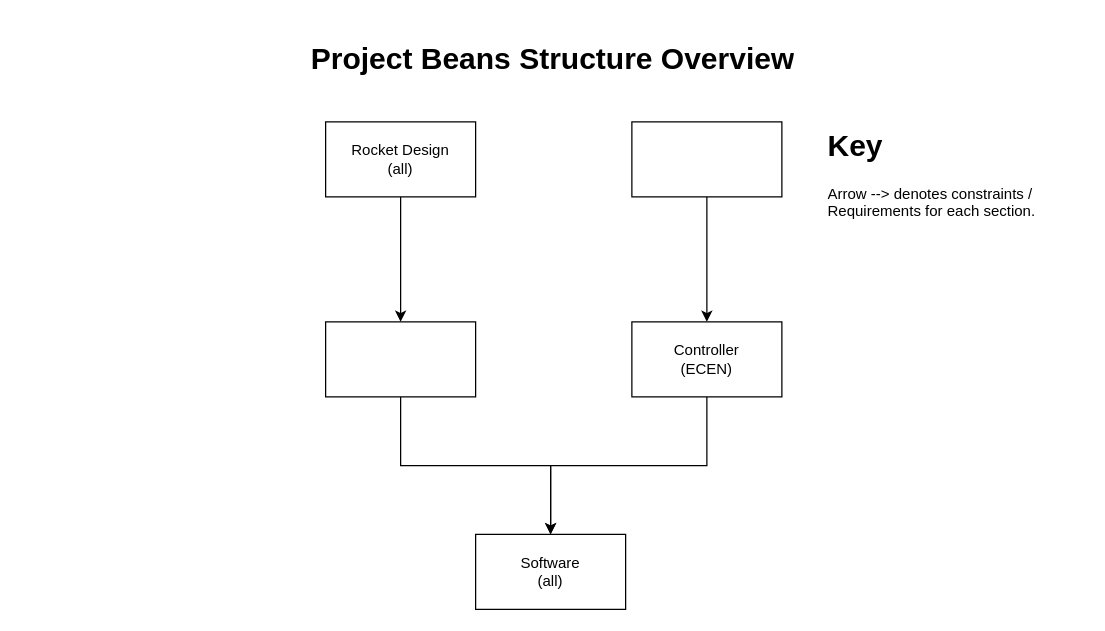
This 1105x631 diagram has some shape labels left out. Each missing label, with the centre of its shape:
"Circuit Design (ECEN)" goes at (x=400, y=359).
"Simulation (all)" goes at (x=706, y=159).
